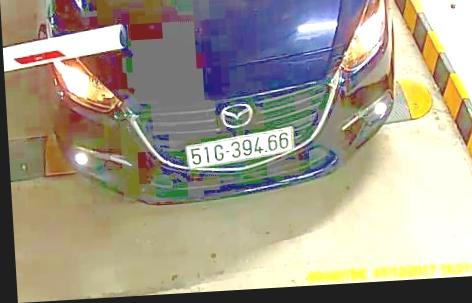License_Plate: (179, 124, 300, 167)
